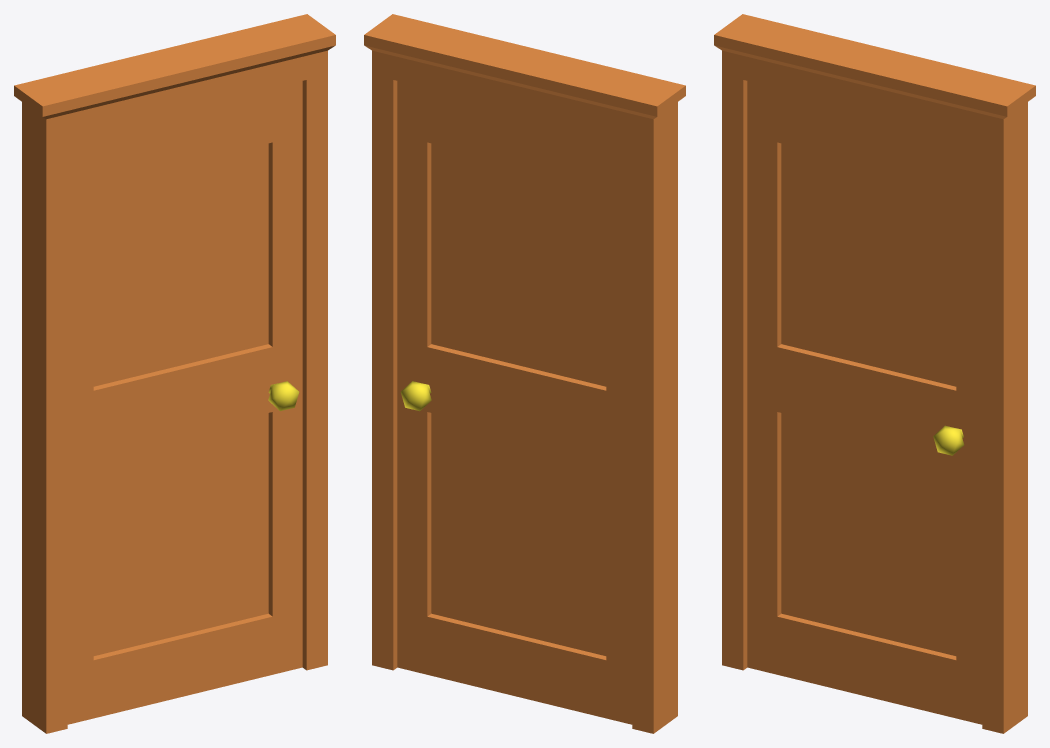
File: Door.fbx
The picture shows the model from 3 angles, left to right: view 1: azimuth 30°, elevation 25°; view 2: azimuth 150°, elevation 25°; view 3: azimuth 330°, elevation 25°; orthographic projection.
Visible parts, largest first — view 1: WoodenDoorChild, WoodenDoor, WoodenDoorKnob; view 2: WoodenDoorChild, WoodenDoor, WoodenDoorKnob; view 3: WoodenDoorChild, WoodenDoor, WoodenDoorKnob.
Boxes of the visible parts, box(x1,y1,x2,y2) form: WoodenDoorChild: box(67, 81, 302, 724); WoodenDoor: box(14, 14, 335, 733); WoodenDoorKnob: box(268, 381, 299, 411); WoodenDoorChild: box(397, 81, 632, 724); WoodenDoor: box(364, 14, 685, 733); WoodenDoorKnob: box(400, 381, 431, 411); WoodenDoorChild: box(747, 81, 982, 724); WoodenDoor: box(714, 14, 1035, 733); WoodenDoorKnob: box(933, 425, 964, 455).
Size of the model in its own units: 417 by 856 by 116.
